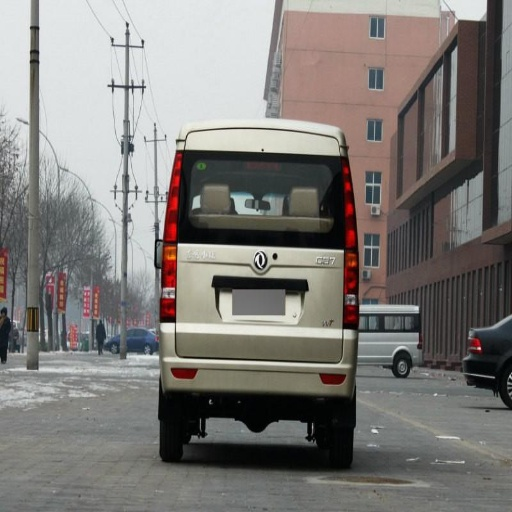back_bumper: (163, 329, 358, 394)
trunk: (176, 210, 346, 363)
